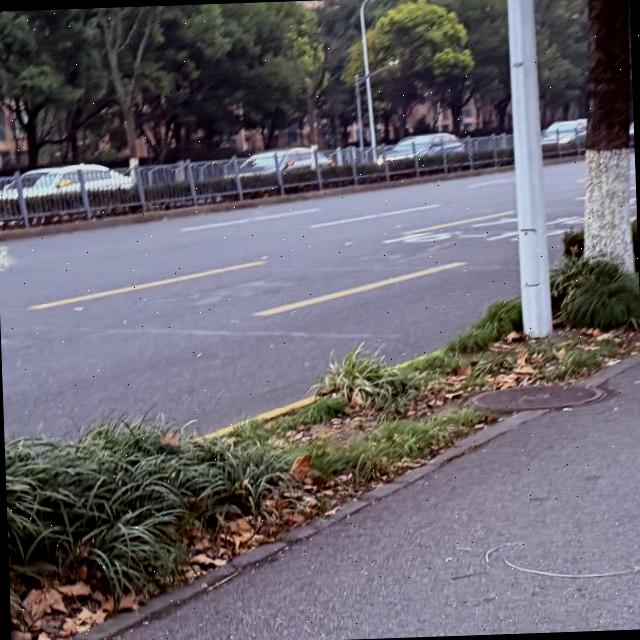curb: (71, 411, 544, 640), (0, 167, 506, 241), (199, 395, 314, 437), (586, 356, 640, 400)
